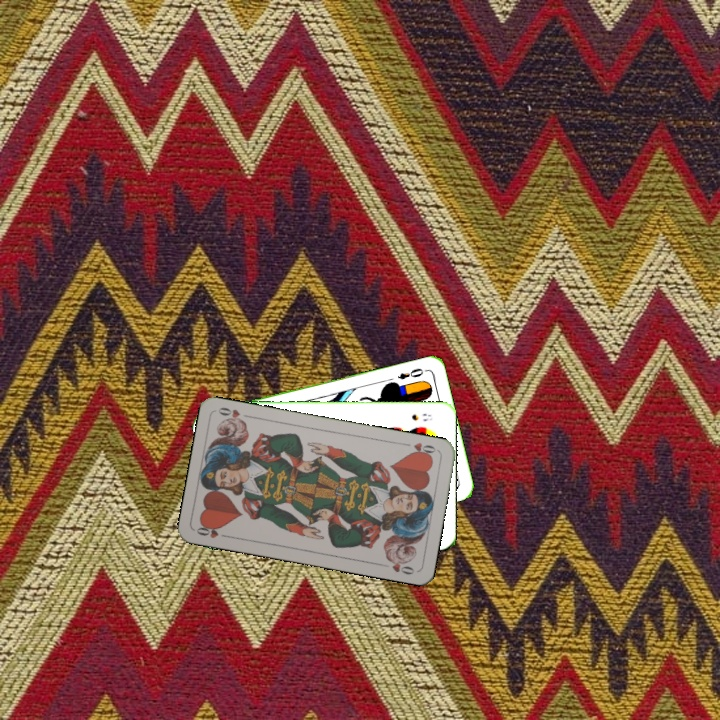EO: (394, 364, 429, 382)
HO: (400, 438, 438, 460), (192, 521, 233, 541)
S8: (408, 409, 435, 424)
